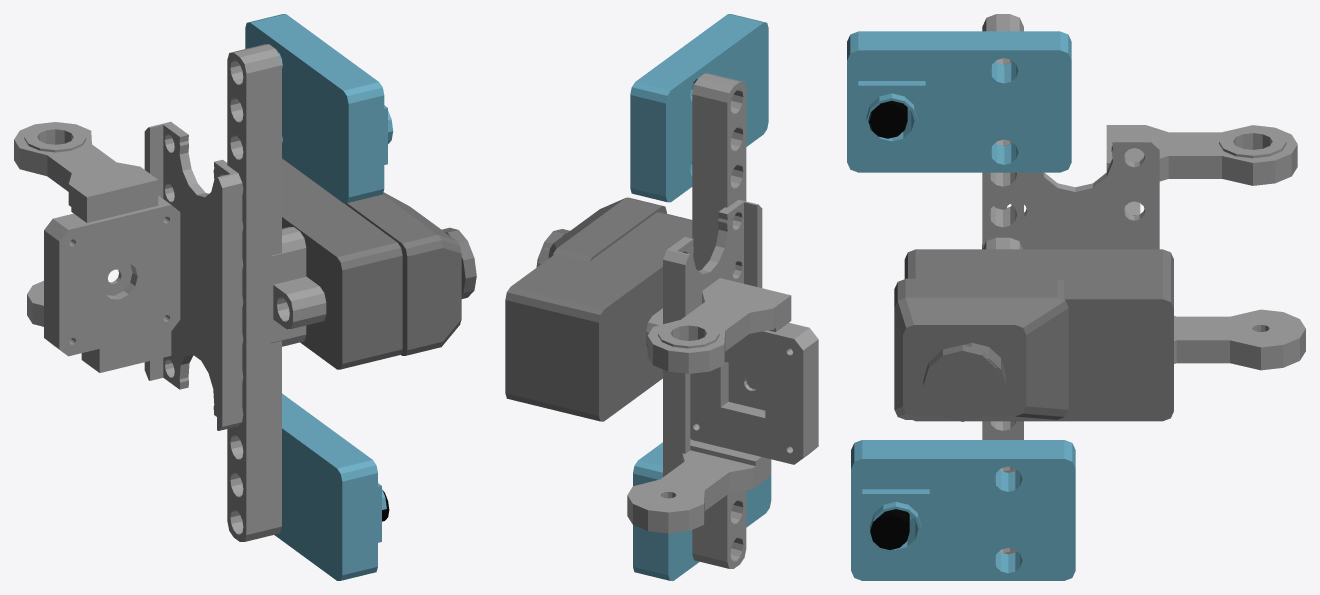
Rendered from head-neck-p.glb.
The picture shows the model from 3 angles, left to right: view 1: azimuth 30°, elevation 25°; view 2: azimuth 150°, elevation 25°; view 3: azimuth 270°, elevation 25°; orthographic projection. The views are drawn at different scales.
Bounding box in the file's own units: 0.0744 × 0.1047 × 0.0817.
